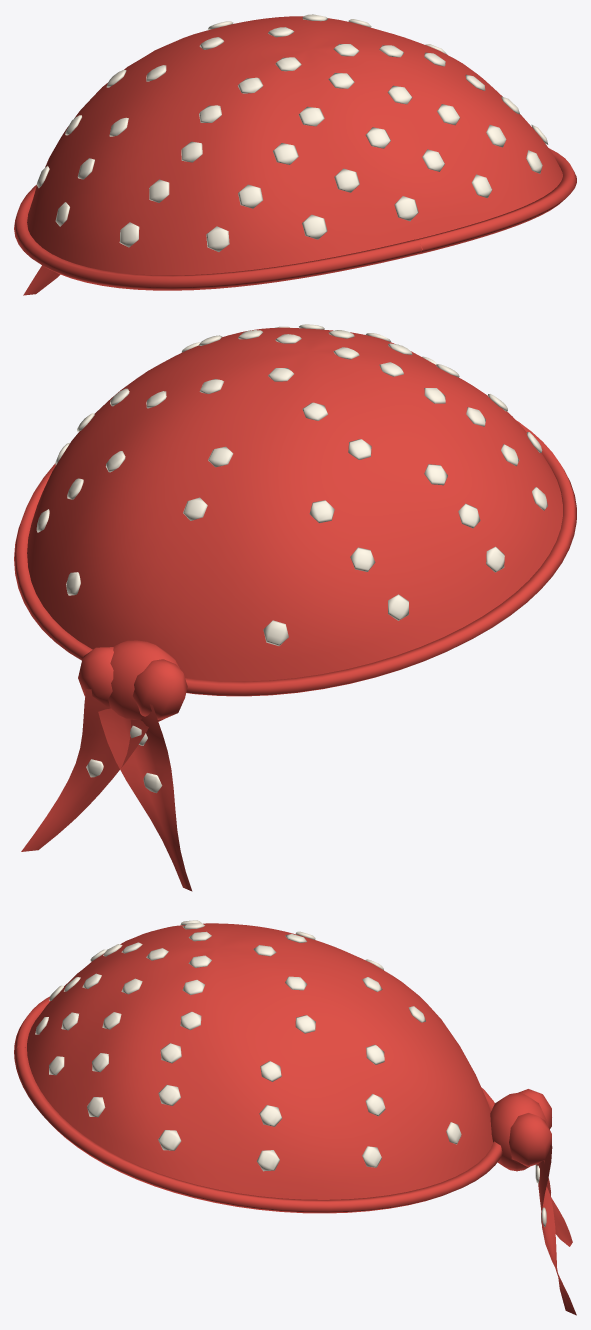
File: hat_bandana.glb
3 views of the same model, one above another, from view 1: azimuth 30°, elevation 25°; view 2: azimuth 150°, elevation 25°; view 3: azimuth 270°, elevation 25° (orthographic). The views are drawn at different scales.
Parts seen in each view (by area): view 1: HatBandana; view 2: HatBandana; view 3: HatBandana.
Boxes of the visible parts, x1,y1,x2,y2 form: HatBandana: [14, 14, 576, 295]; HatBandana: [14, 324, 576, 891]; HatBandana: [14, 920, 576, 1315].
Bounding box in the file's own units: 0.5255 × 0.3855 × 0.5906.
